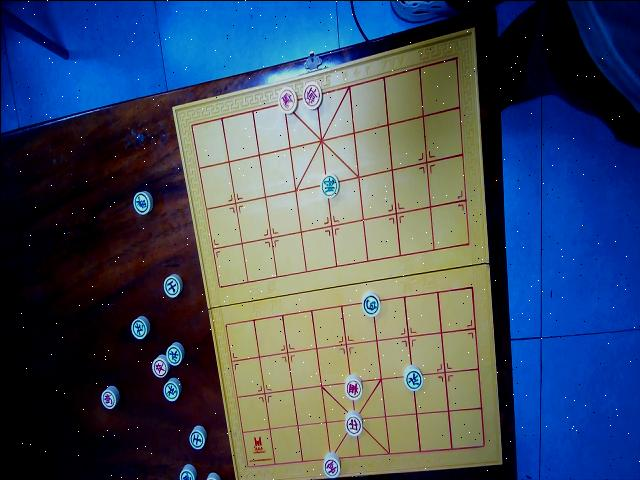piece: (301, 81, 321, 110), (402, 364, 422, 392), (132, 189, 152, 215), (162, 272, 181, 299), (343, 374, 362, 400), (360, 291, 379, 317), (343, 410, 361, 436), (162, 376, 180, 402), (187, 424, 205, 450), (164, 340, 182, 366), (319, 174, 337, 200), (322, 452, 339, 479), (99, 385, 118, 409), (277, 87, 295, 112), (150, 354, 168, 378), (130, 316, 148, 340), (178, 464, 196, 480), (204, 472, 220, 480)
